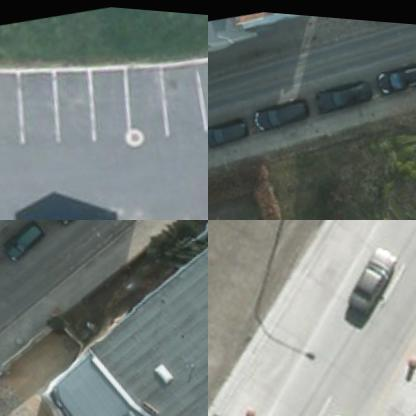car: (342, 233, 408, 318), (208, 107, 259, 164), (250, 87, 310, 128), (310, 70, 370, 110), (0, 220, 48, 259), (374, 48, 415, 92)
